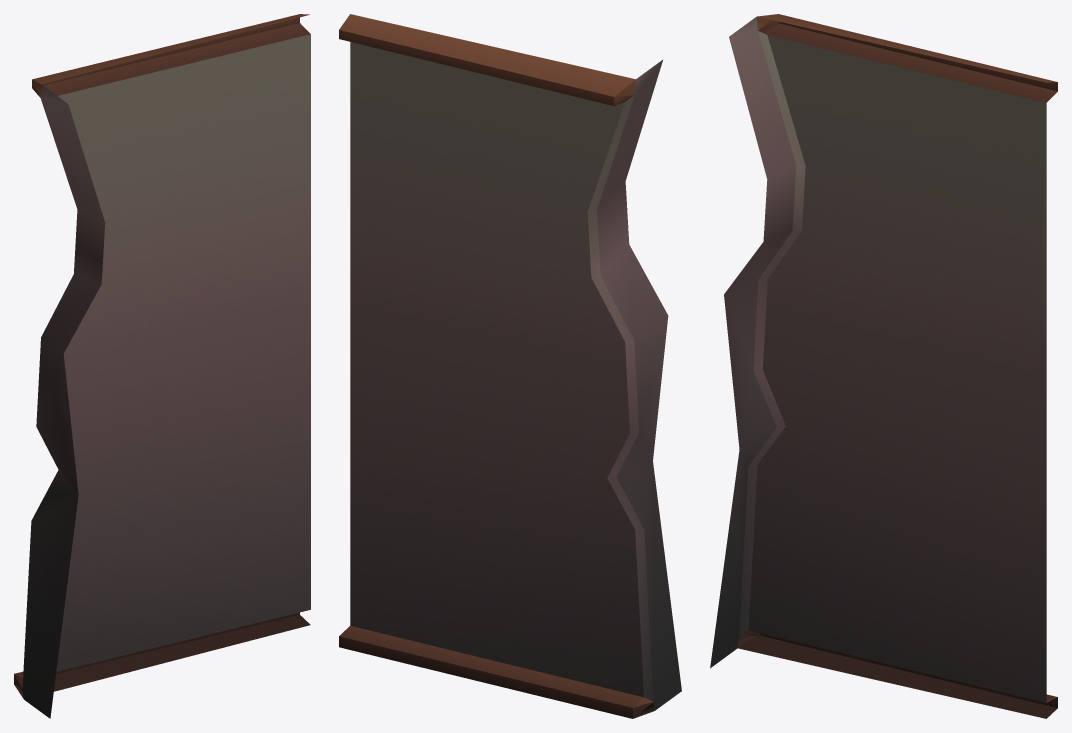
The model's file is SM_Env_InnerWall_03.fbx.
3 views of the same model, side by side, from view 1: azimuth 30°, elevation 25°; view 2: azimuth 150°, elevation 25°; view 3: azimuth 330°, elevation 25° (orthographic). The views are drawn at different scales.
Parts seen in each view (by area): view 1: SM_Env_InnerWall_03; view 2: SM_Env_InnerWall_03; view 3: SM_Env_InnerWall_03.
Part boxes in pixels (left/top/right/bottom): SM_Env_InnerWall_03: left=14, top=14, right=310, bottom=718; SM_Env_InnerWall_03: left=339, top=14, right=681, bottom=718; SM_Env_InnerWall_03: left=710, top=14, right=1057, bottom=718.
Size of the model in its own units: 1200 by 2400 by 300.
